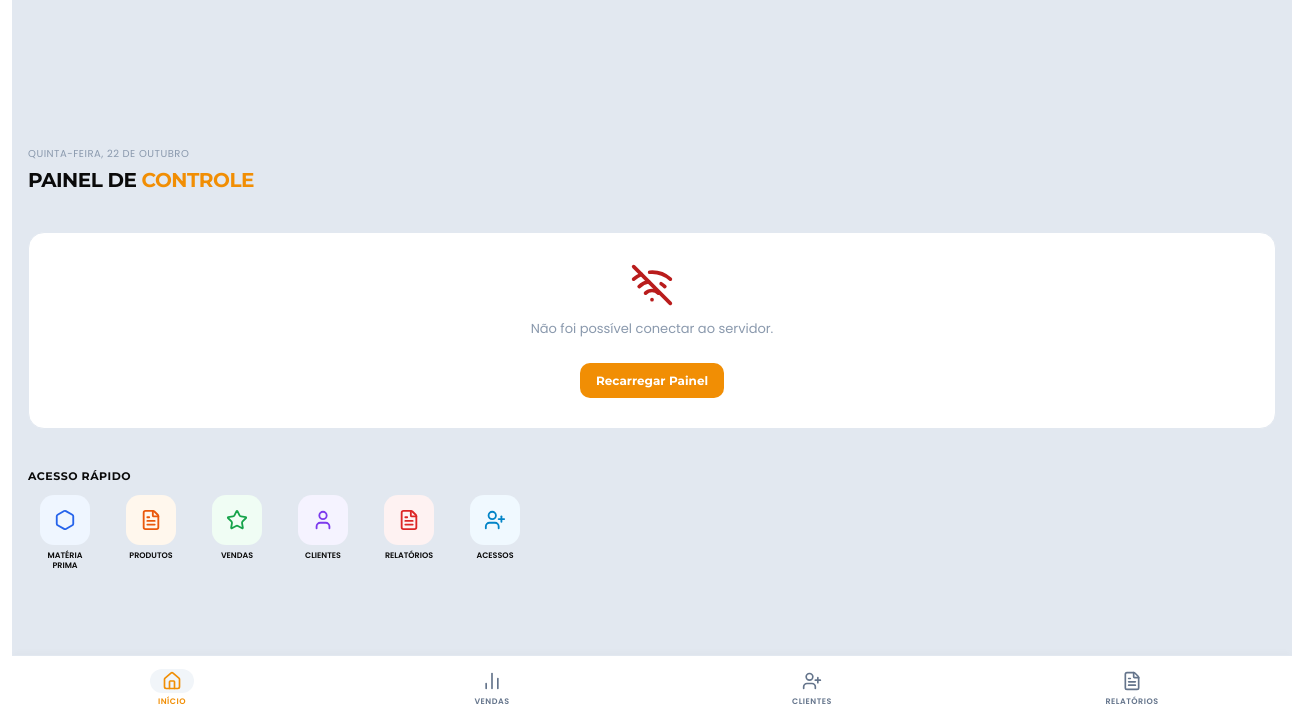
Home – carregamento do painel › falha total mostra erro e 'Recarregar Painel' tenta de novo
The width and height of the screenshot is (1304, 720).
Expected: the text "Não foi possível conectar ao servidor." is shown, [531,319,773,339]
Click the button "Recarregar Painel" at (652, 380), box [580,363,724,398]
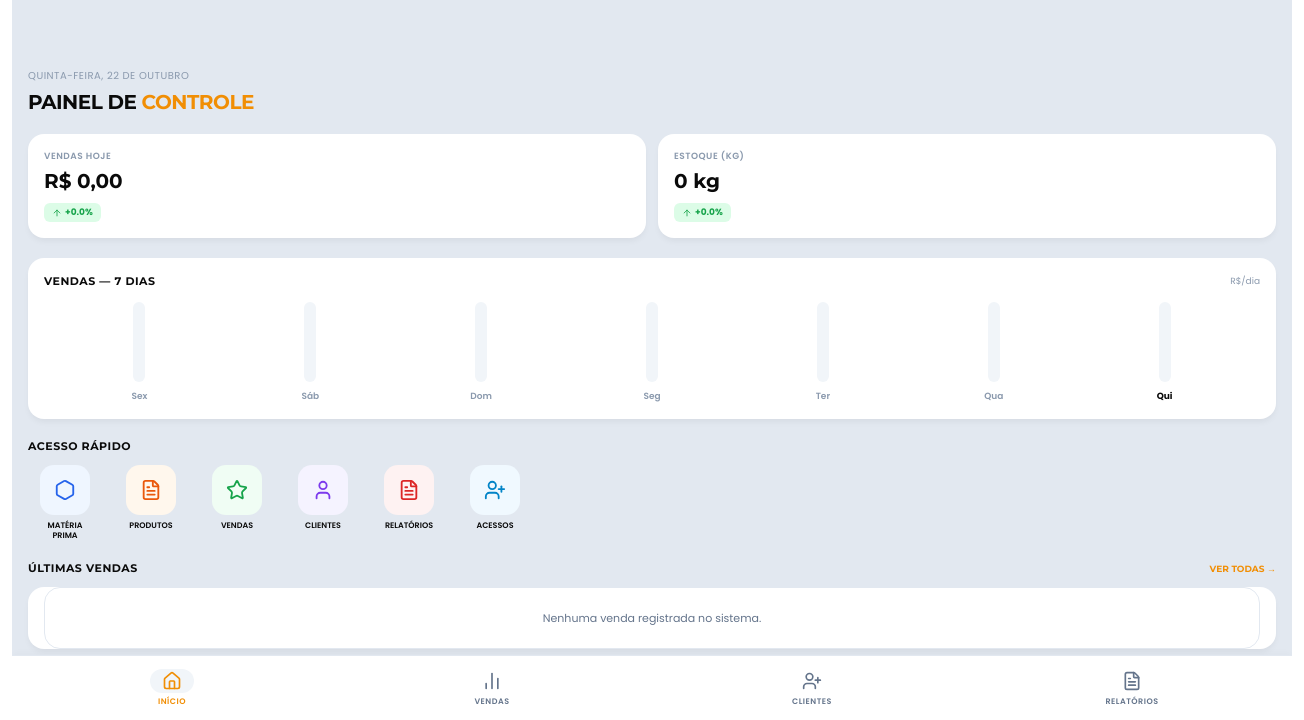
Expected: the text "Nenhuma venda registrada no sistema." is shown, [543,610,761,626]
